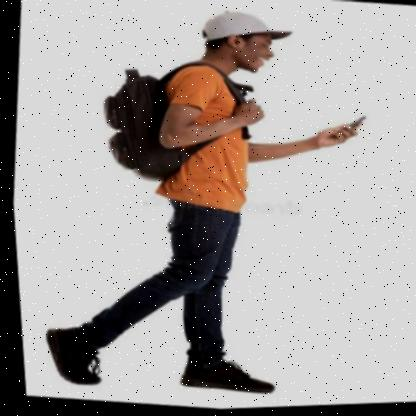person: (6, 0, 400, 416)
